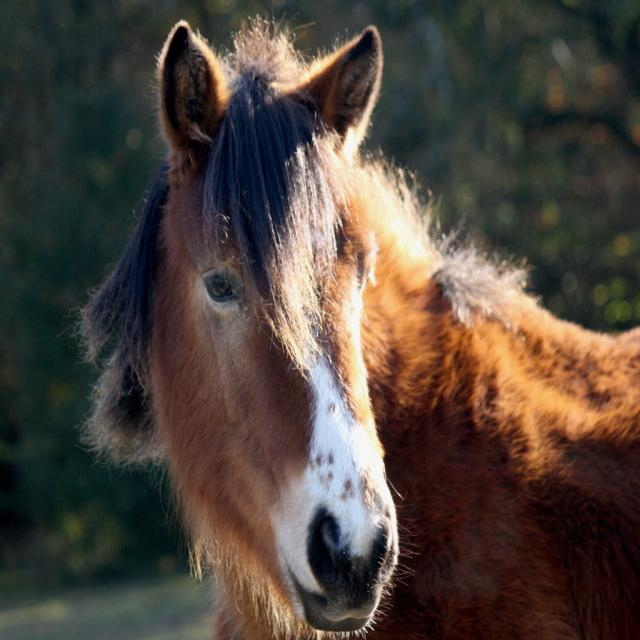Horse: (77, 0, 639, 639)
